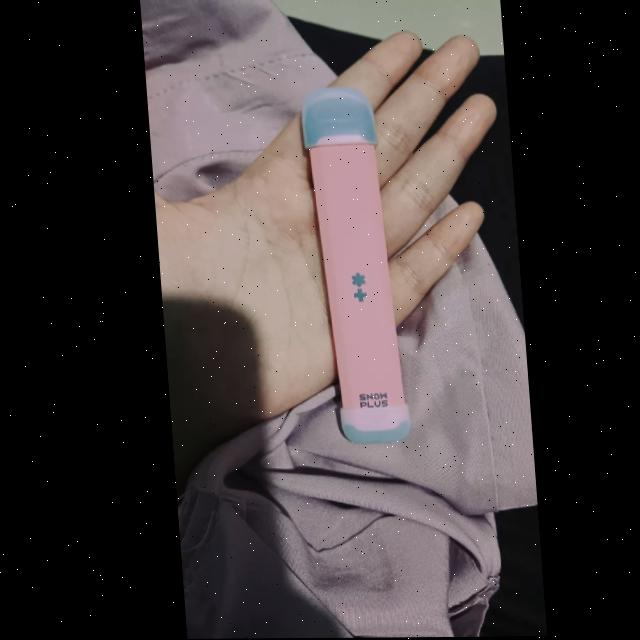vape: (295, 90, 404, 440)
